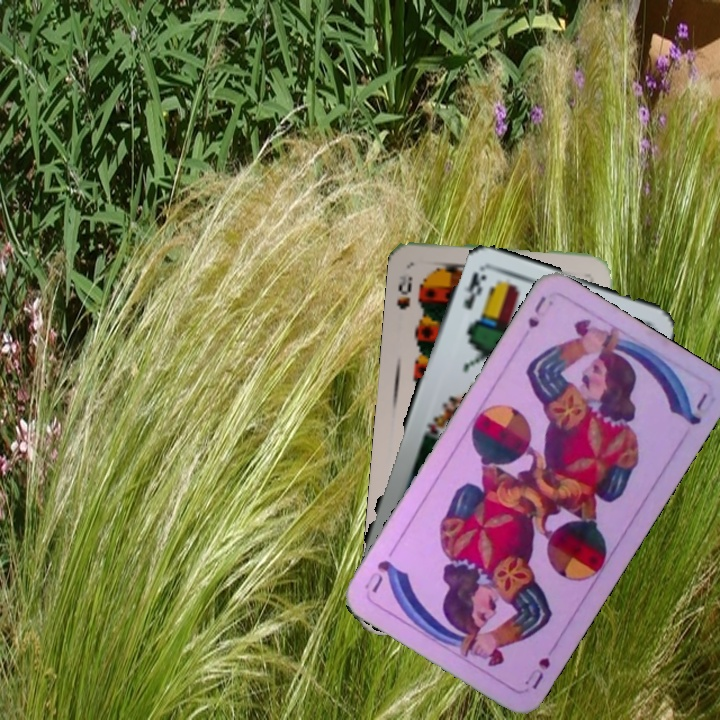EK: (460, 267, 489, 312)
S8: (392, 271, 415, 312)
SU: (520, 652, 554, 692), (524, 291, 549, 331)
